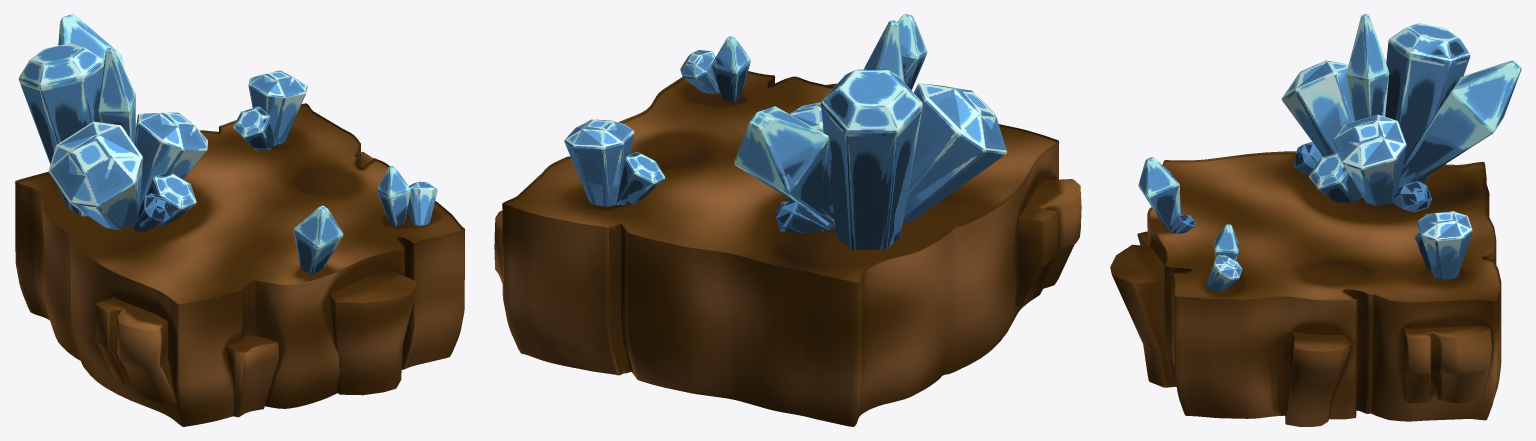
Rendered from land-C.glb.
3 views of the same model, side by side, from view 1: azimuth 30°, elevation 25°; view 2: azimuth 150°, elevation 25°; view 3: azimuth 270°, elevation 25° (orthographic). The views are drawn at different scales.
Visible parts, largest first — view 1: Land; view 2: Land; view 3: Land.
Boxes of the visible parts, bbox=[...] form: Land: bbox=[15, 14, 465, 426]; Land: bbox=[494, 14, 1081, 426]; Land: bbox=[1110, 14, 1521, 426].
Size of the model in its own units: 9.26 by 7.13 by 9.28.
1 material, 1 textured.
